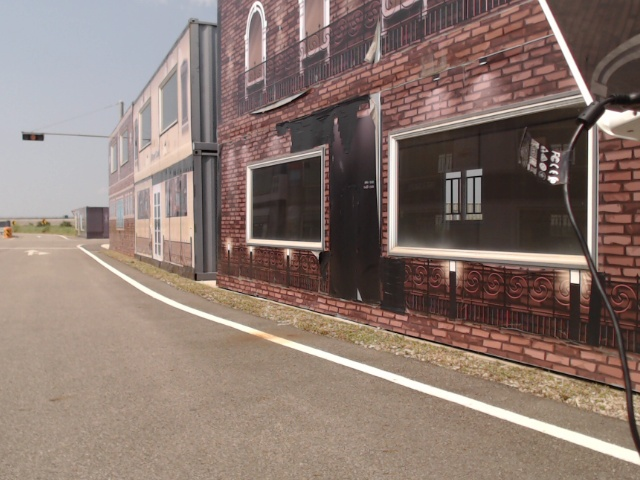orange_3: (21, 132, 47, 141)
